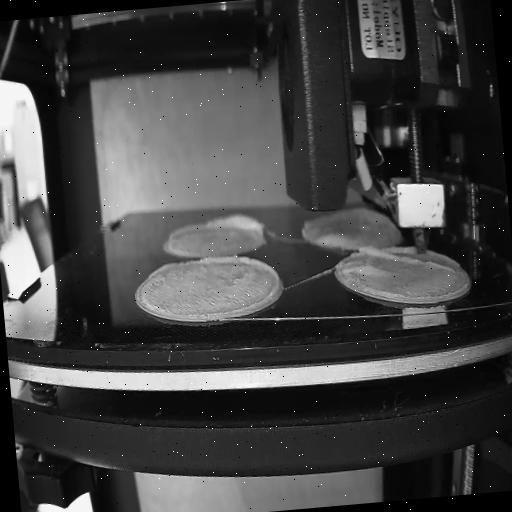over_extrusion: (196, 249, 282, 318), (358, 235, 456, 282), (204, 208, 268, 242), (145, 258, 182, 279), (166, 222, 202, 242)
